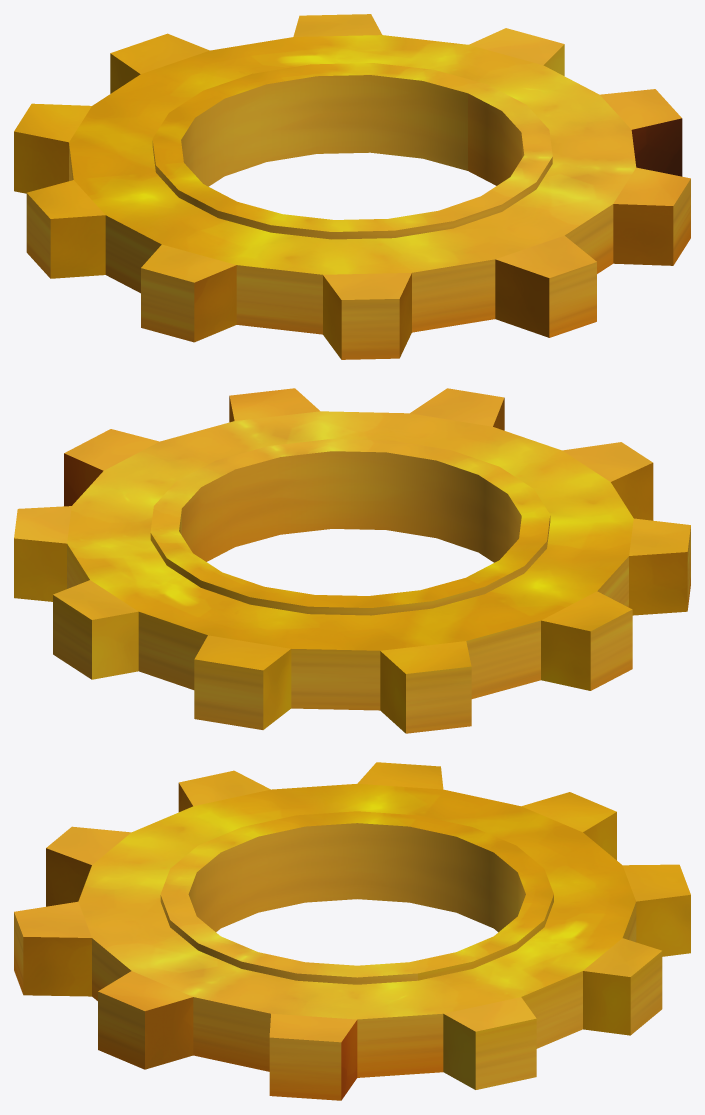
The model's file is Cogwheel.fbx.
The picture shows the model from 3 angles, top to bottom: view 1: azimuth 30°, elevation 25°; view 2: azimuth 150°, elevation 25°; view 3: azimuth 270°, elevation 25°; orthographic projection. The views are drawn at different scales.
Visible parts, largest first — view 1: polySurface2; view 2: polySurface2; view 3: polySurface2.
Boxes of the visible parts, bbox=[...] form: polySurface2: bbox=[14, 14, 690, 359]; polySurface2: bbox=[14, 388, 690, 733]; polySurface2: bbox=[14, 762, 690, 1100].
Bounding box in the file's own units: 11.18 × 1.41 × 11.41.
Materials: 1 (1 with a texture image).
